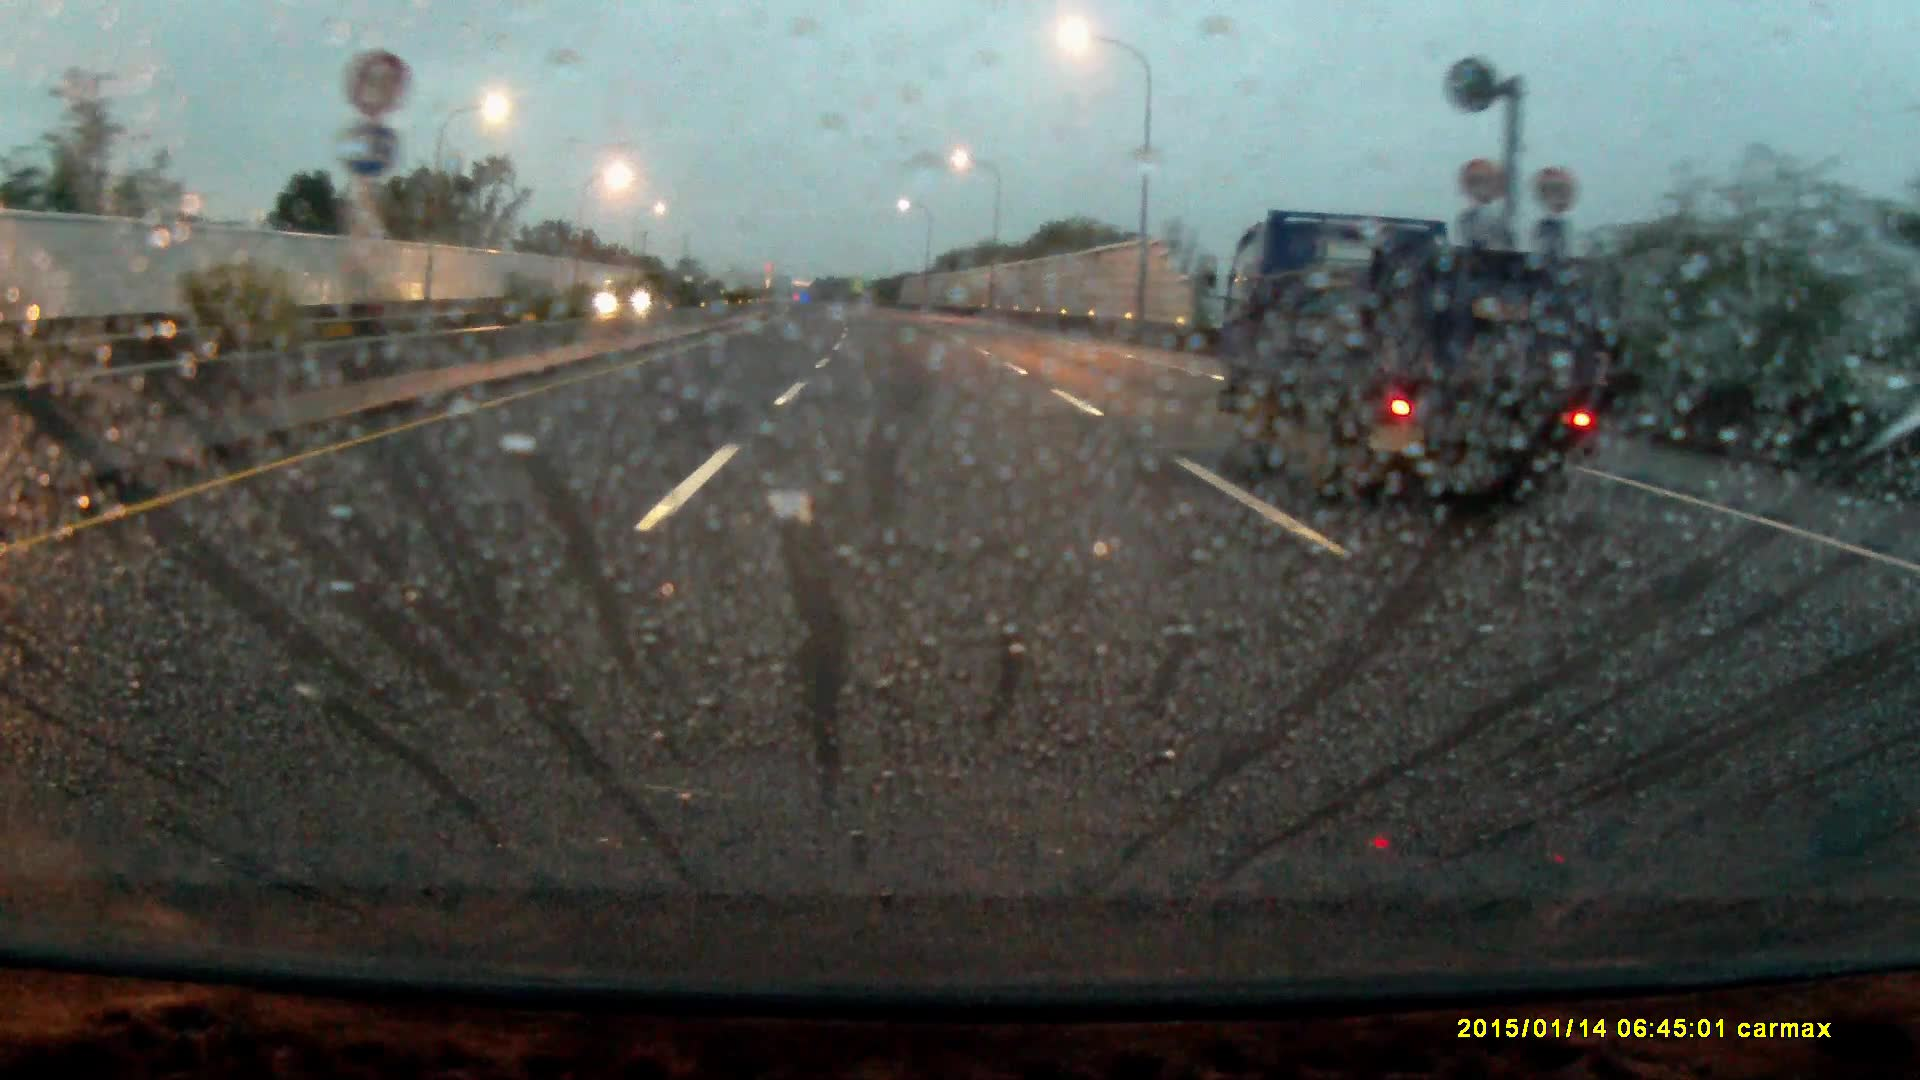vehicle: (1218, 203, 1635, 533)
